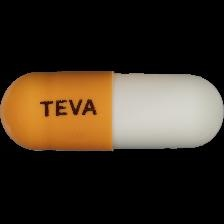0093-7371: (0, 0, 224, 224)
